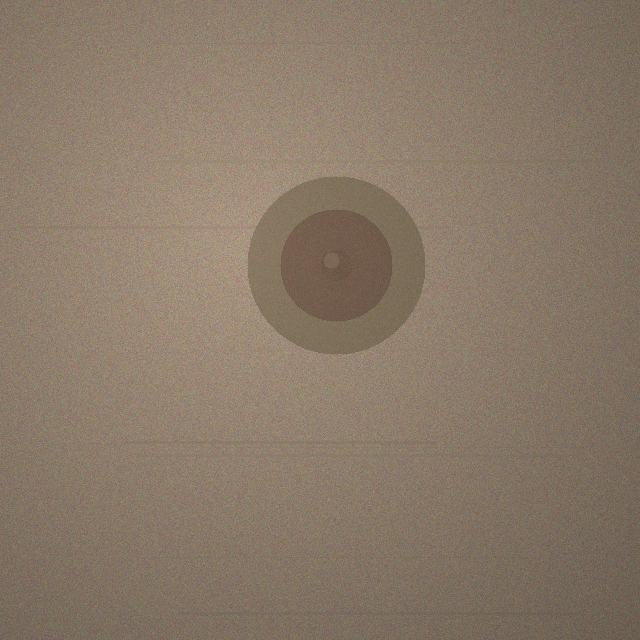good: (247, 176, 425, 354)
